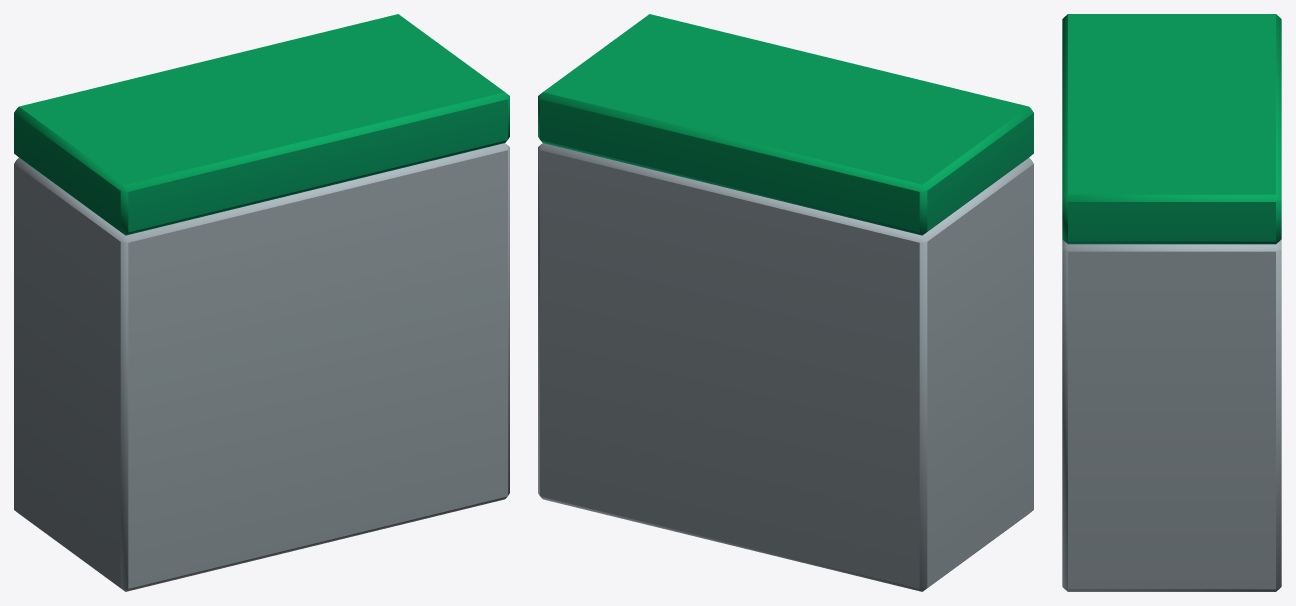
Rendered from platform_4x2x4_green.glb.
3 renders of one model, left to right at view 1: azimuth 30°, elevation 25°; view 2: azimuth 150°, elevation 25°; view 3: azimuth 270°, elevation 25°, orthographic. The views are drawn at different scales.
Parts seen in each view (by area): view 1: platform_4x2x4_green; view 2: platform_4x2x4_green; view 3: platform_4x2x4_green.
Boxes of the visible parts, x1,y1,x2,y2 form: platform_4x2x4_green: [14, 14, 509, 591]; platform_4x2x4_green: [538, 14, 1033, 591]; platform_4x2x4_green: [1062, 14, 1281, 591].
Size of the model in its own units: 4 by 4 by 2.
Materials: 1 (1 with a texture image).
